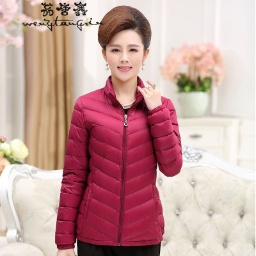face: (95, 6, 153, 85)
